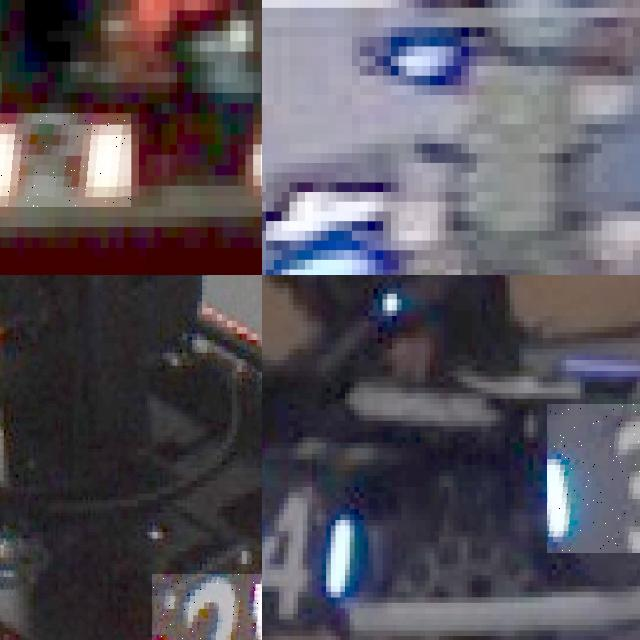B3: (547, 404, 640, 553)
B4: (262, 486, 350, 619)
R2: (152, 573, 262, 640)
Rs: (0, 113, 131, 206)
